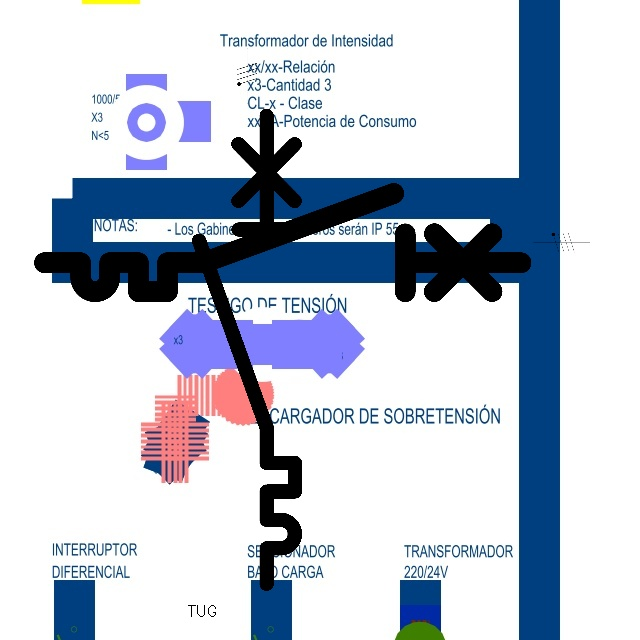interruptor_termomagnetico: (32, 181, 533, 304), (187, 103, 307, 595)
